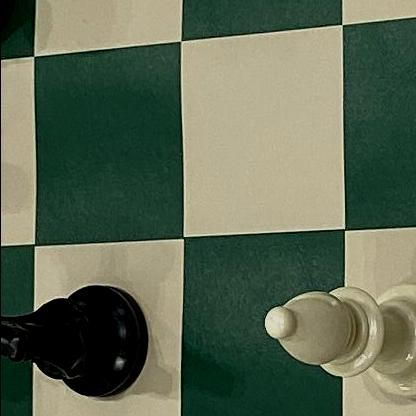black-knight: (0, 267, 150, 411)
white-bishop: (248, 271, 416, 404)
